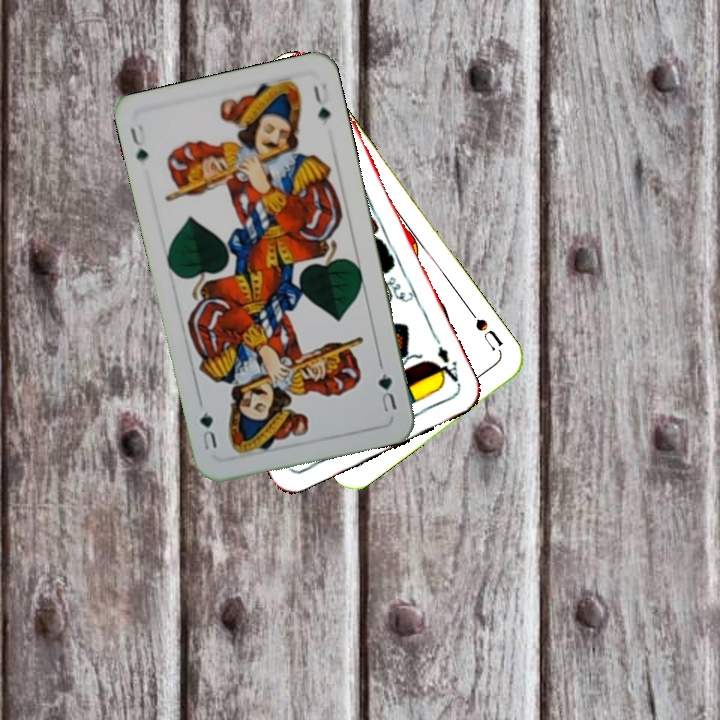EA: (430, 342, 463, 389)
GU: (373, 359, 400, 415), (126, 120, 151, 165)
SU: (465, 305, 506, 357)
